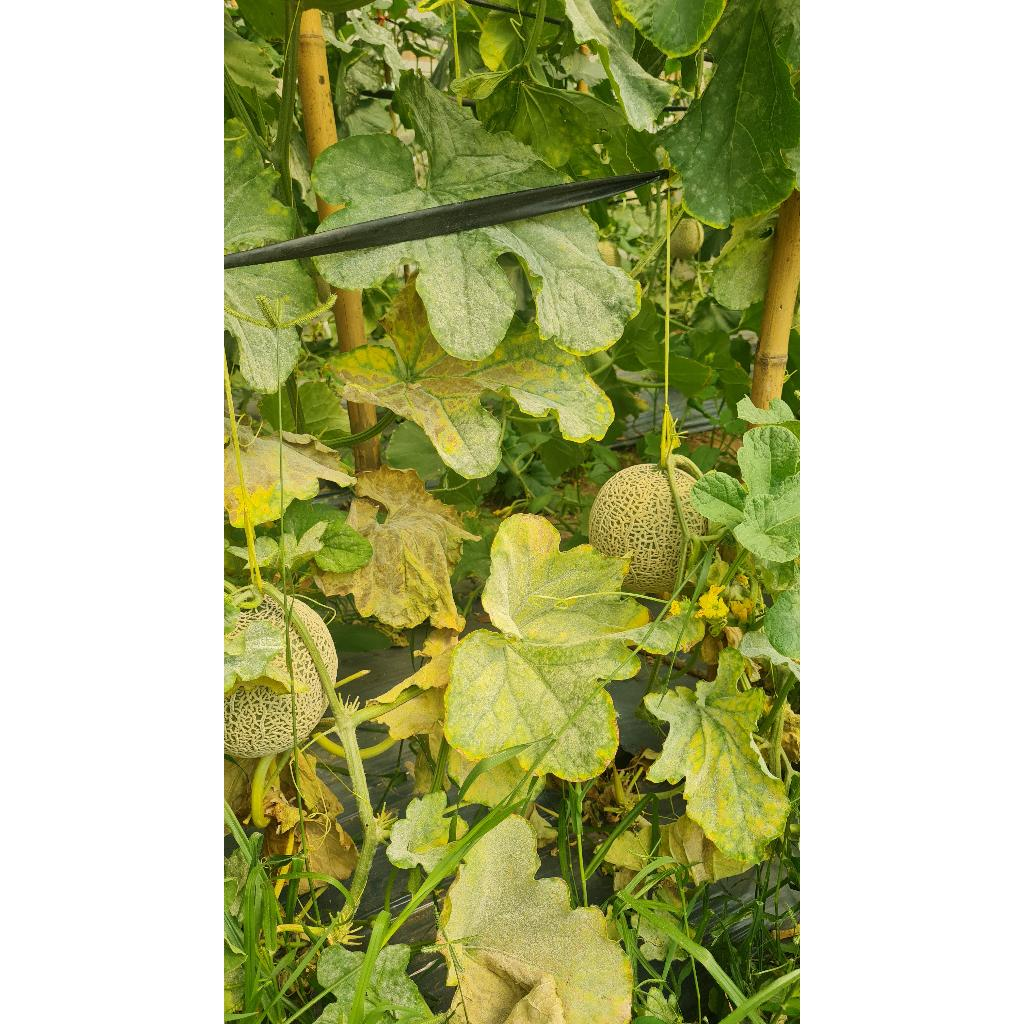melon: (590, 464, 682, 594), (224, 686, 294, 758), (288, 626, 328, 740), (288, 598, 338, 684), (228, 594, 284, 638), (674, 468, 708, 536)
